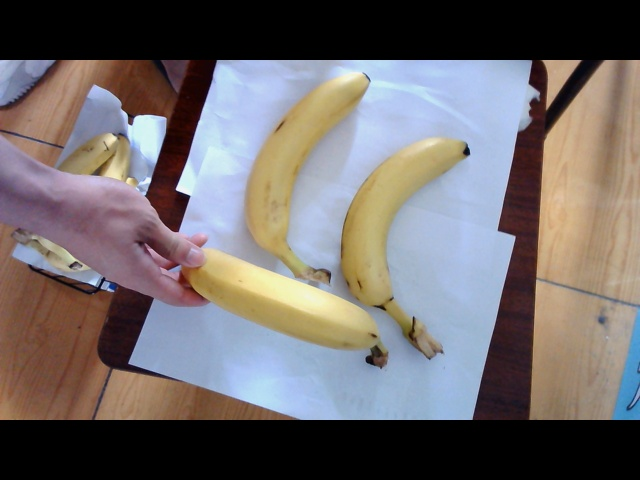banana: (340, 133, 470, 344), (228, 67, 365, 247), (180, 252, 370, 360)
